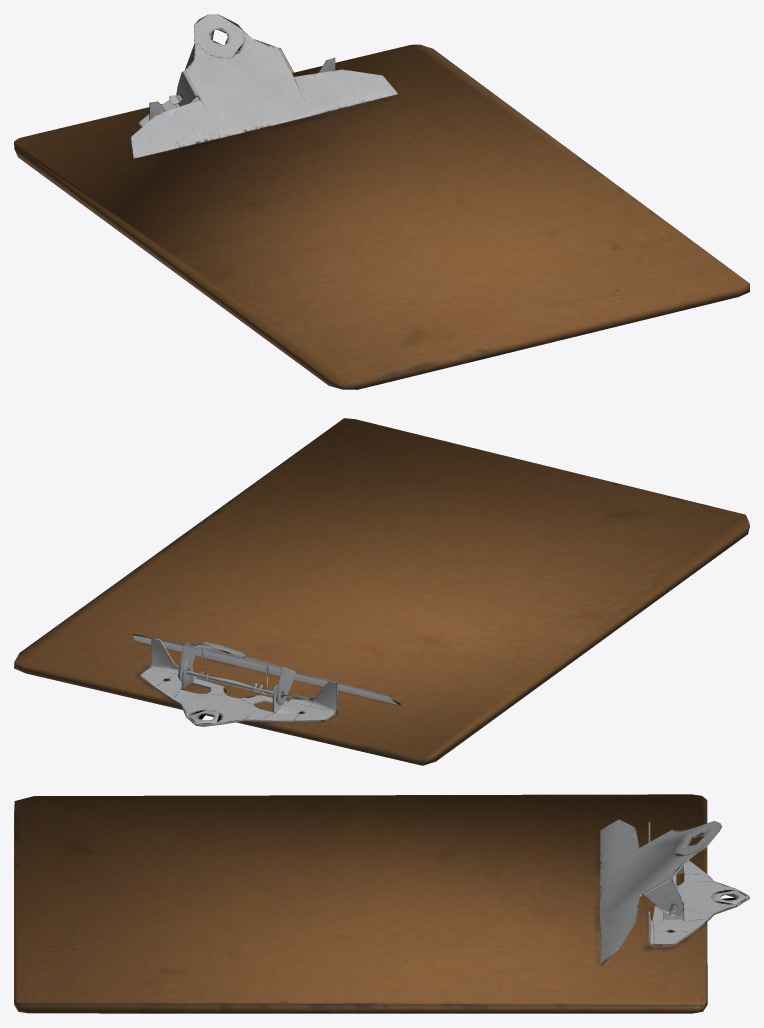
File: clipboard.glb
3 renders of one model, top to bottom at view 1: azimuth 30°, elevation 25°; view 2: azimuth 150°, elevation 25°; view 3: azimuth 270°, elevation 25°, orthographic. The views are drawn at different scales.
Parts seen in each view (by area): view 1: clipboard; view 2: clipboard; view 3: clipboard.
Boxes of the visible parts, x1=… form: clipboard: x1=14, y1=14, x2=749, y2=389; clipboard: x1=14, y1=418, x2=749, y2=765; clipboard: x1=14, y1=794, x2=749, y2=1013.
Bounding box in the file's own units: 0.2278 × 0.0417 × 0.3362.
1 material, 1 textured.
